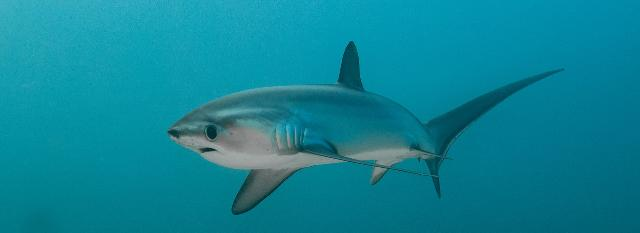Mulut: (187, 140, 229, 170)
Sirip Dada: (222, 144, 444, 220)
Sirip Ekor: (425, 62, 575, 202)
Sirip Perut: (365, 141, 457, 191)
Sirip Punggung: (331, 30, 369, 94)
